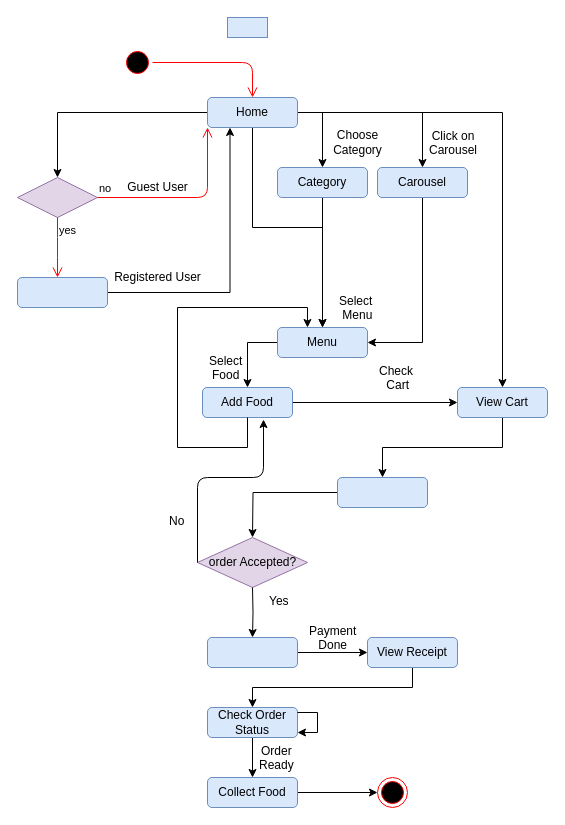
Image size: 565x825. Some labels were removed from this diagram. Here are the shapes that lost their labels. From the top down, the centre of each, then its label:
At (247,27): "User".
At (57,197): "Log in".
At (62,292): "Log in Page".
At (382,492): "Place Order".
At (252,652): "Payment Page".
